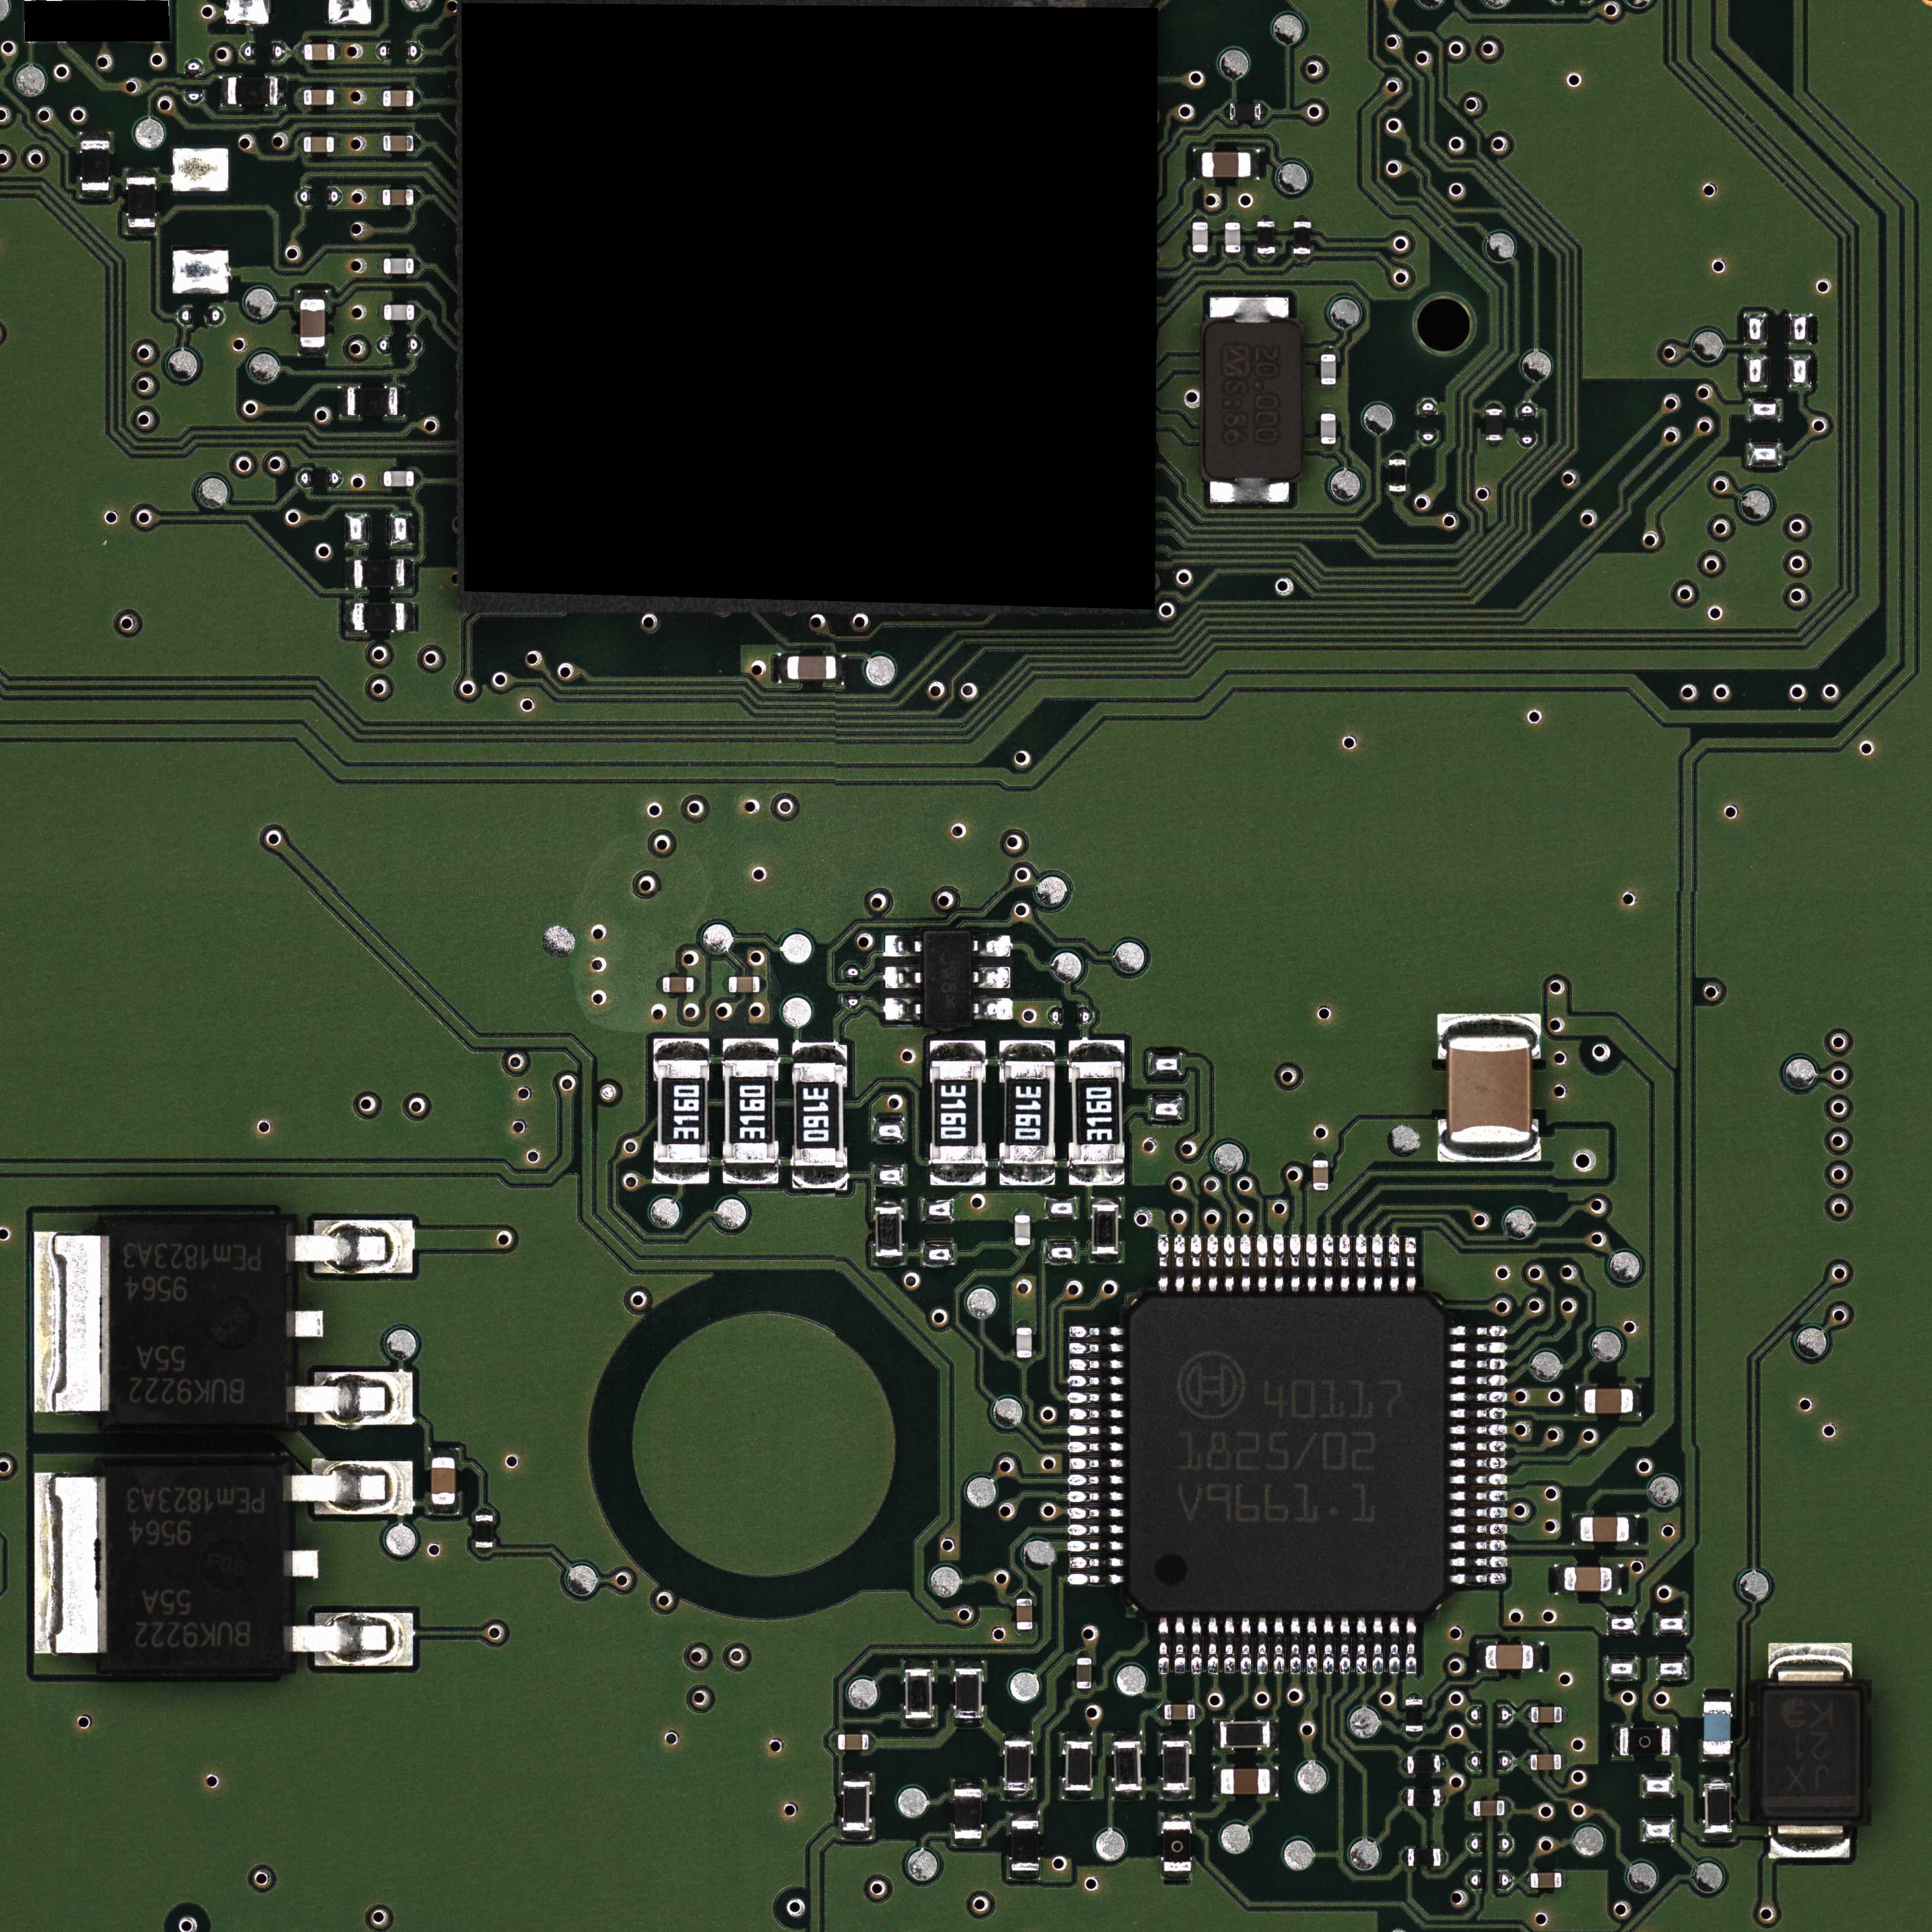Package: (1126, 1296, 1446, 1616), (106, 1466, 284, 1671), (110, 1224, 288, 1424), (1203, 324, 1302, 476), (1761, 1688, 1862, 1818), (1447, 1036, 1533, 1143), (793, 1064, 845, 1166), (1071, 1063, 1123, 1163), (931, 1062, 983, 1163), (724, 1062, 777, 1162), (657, 1061, 708, 1162), (1003, 1063, 1054, 1163), (922, 930, 972, 1025), (1703, 1702, 1731, 1754), (353, 603, 404, 631), (81, 141, 110, 191), (228, 77, 278, 105), (1619, 1728, 1670, 1756), (127, 177, 155, 227), (347, 387, 397, 416), (354, 559, 404, 587), (1163, 1822, 1191, 1871), (954, 1789, 982, 1838), (1011, 1821, 1039, 1870), (1220, 1722, 1270, 1748), (1202, 152, 1251, 178), (1005, 1741, 1031, 1790), (876, 1207, 901, 1256), (956, 1668, 981, 1718), (1221, 1769, 1270, 1794), (1163, 1741, 1189, 1790), (1066, 1741, 1092, 1790), (1705, 1784, 1731, 1833), (843, 1782, 869, 1831), (1580, 1517, 1629, 1542), (1115, 1741, 1140, 1790), (1093, 1205, 1117, 1254), (300, 299, 325, 347), (1584, 1388, 1633, 1413), (787, 656, 836, 680), (1486, 1644, 1533, 1670), (907, 1669, 931, 1718), (1564, 1567, 1612, 1592), (432, 1457, 456, 1505), (475, 1515, 494, 1548), (1293, 222, 1311, 255), (1407, 1848, 1441, 1867), (1405, 1699, 1423, 1732), (1257, 221, 1275, 254), (1407, 1755, 1440, 1773), (1407, 1788, 1440, 1806), (1388, 459, 1406, 492), (1485, 409, 1503, 440), (1229, 103, 1261, 121), (728, 976, 760, 993), (1473, 1800, 1505, 1816), (383, 135, 414, 152), (383, 189, 414, 205), (1530, 1754, 1561, 1770), (1164, 1704, 1195, 1720), (383, 90, 413, 107), (838, 1734, 869, 1750), (1192, 222, 1208, 253), (1531, 1706, 1562, 1723), (663, 977, 694, 993), (1016, 1598, 1032, 1630), (384, 304, 414, 320), (304, 44, 335, 60), (384, 258, 414, 274), (384, 471, 414, 487), (304, 90, 334, 105), (304, 137, 334, 152), (1225, 223, 1241, 253), (1313, 1160, 1329, 1190), (1321, 354, 1336, 385), (1321, 414, 1336, 444), (1531, 1873, 1561, 1888), (1076, 1658, 1092, 1689), (1014, 1215, 1030, 1245), (1016, 1327, 1032, 1357)
Solder: (34, 1235, 108, 1411), (35, 1474, 106, 1655), (285, 1460, 414, 1516), (284, 1613, 413, 1667), (289, 1371, 413, 1426), (289, 1221, 413, 1275), (1768, 1643, 1853, 1688), (1770, 1819, 1851, 1858), (1439, 1014, 1542, 1037), (1210, 477, 1290, 504), (1210, 296, 1288, 323), (1437, 1142, 1542, 1162), (792, 1167, 848, 1190), (999, 1165, 1056, 1186), (1068, 1165, 1125, 1185), (653, 1164, 710, 1184), (999, 1040, 1056, 1061), (723, 1039, 778, 1059), (723, 1164, 779, 1184), (654, 1039, 710, 1059), (1068, 1040, 1124, 1060), (930, 1165, 981, 1186), (792, 1043, 847, 1062), (289, 1309, 324, 1339), (929, 1041, 981, 1060), (884, 997, 922, 1021), (287, 1549, 319, 1578), (884, 966, 922, 989), (972, 998, 1013, 1020), (972, 966, 1011, 989), (972, 935, 1011, 957), (885, 935, 922, 957), (1449, 1357, 1507, 1371), (1449, 1489, 1507, 1502), (1449, 1506, 1507, 1519), (1449, 1539, 1507, 1552), (1449, 1555, 1507, 1569), (1449, 1341, 1507, 1354), (1449, 1374, 1507, 1387), (1449, 1473, 1507, 1486), (1449, 1523, 1507, 1536), (1449, 1456, 1507, 1469), (1449, 1391, 1507, 1403), (1449, 1424, 1507, 1437), (1449, 1572, 1507, 1585), (1449, 1440, 1507, 1453), (1355, 1234, 1367, 1292), (1388, 1235, 1401, 1292), (1449, 1407, 1507, 1420), (1449, 1325, 1507, 1338), (1289, 1233, 1301, 1293), (1305, 1234, 1317, 1293), (1190, 1234, 1202, 1293), (1256, 1234, 1268, 1292), (1372, 1234, 1384, 1292), (1068, 1556, 1124, 1569), (1223, 1234, 1235, 1292), (1240, 1234, 1252, 1292), (1339, 1234, 1351, 1292), (1066, 1491, 1124, 1502), (1066, 1524, 1124, 1536), (1322, 1235, 1334, 1292), (1067, 1573, 1124, 1585), (1339, 1617, 1351, 1675), (1067, 1375, 1124, 1387), (1273, 1233, 1284, 1293), (1067, 1540, 1124, 1552), (1067, 1392, 1124, 1403), (1068, 1359, 1124, 1371), (1174, 1234, 1185, 1293), (1207, 1234, 1218, 1292), (1066, 1507, 1124, 1519), (1256, 1617, 1268, 1675), (1240, 1617, 1252, 1675), (1273, 1617, 1285, 1675), (1290, 1617, 1301, 1675), (1306, 1617, 1318, 1675), (1405, 1236, 1417, 1292), (1067, 1474, 1124, 1486), (1191, 1617, 1202, 1675), (1174, 1617, 1186, 1675), (1224, 1617, 1235, 1675), (1323, 1617, 1334, 1675), (1069, 1326, 1124, 1338), (1069, 1342, 1124, 1354), (1067, 1442, 1124, 1453), (1389, 1617, 1400, 1674), (1372, 1617, 1384, 1674), (1356, 1617, 1367, 1674), (1067, 1425, 1124, 1436), (1068, 1458, 1124, 1469), (1068, 1408, 1124, 1420), (1158, 1234, 1169, 1293), (1207, 1617, 1218, 1675), (1159, 1617, 1169, 1675), (1405, 1617, 1416, 1674), (1613, 1564, 1624, 1594), (1553, 1564, 1564, 1595), (1629, 1514, 1640, 1545), (1475, 1641, 1486, 1672), (1534, 1642, 1545, 1672), (427, 1505, 460, 1515), (404, 602, 415, 632), (1633, 1385, 1643, 1417), (776, 653, 786, 683), (1251, 149, 1261, 179), (1160, 1811, 1192, 1821), (841, 1771, 872, 1781), (903, 1719, 936, 1729), (1159, 1791, 1192, 1800), (1002, 1791, 1035, 1800), (1061, 1791, 1094, 1801), (79, 131, 111, 140), (1062, 1732, 1093, 1741), (1111, 1791, 1143, 1801), (953, 1779, 984, 1788), (297, 289, 329, 298), (836, 653, 845, 684), (1111, 1732, 1143, 1741), (1160, 1732, 1192, 1741), (1575, 1385, 1584, 1416), (297, 348, 328, 357), (344, 602, 354, 632), (1003, 1731, 1033, 1740), (954, 1719, 984, 1729), (125, 167, 157, 176), (841, 1832, 873, 1840), (429, 1447, 459, 1456), (1192, 148, 1202, 179), (873, 1257, 905, 1266), (1702, 1834, 1734, 1842), (345, 558, 354, 589), (904, 1659, 935, 1668), (953, 1659, 984, 1668), (1702, 1774, 1733, 1783), (80, 191, 110, 199), (1009, 1811, 1040, 1820), (1571, 1514, 1580, 1545), (1009, 1871, 1041, 1880), (1161, 1872, 1192, 1881), (1703, 1692, 1733, 1701), (398, 385, 406, 417), (952, 1839, 984, 1847), (125, 228, 156, 236), (405, 559, 413, 590), (1701, 1755, 1734, 1763), (278, 76, 287, 106), (338, 386, 347, 416), (219, 76, 228, 106), (1090, 1255, 1120, 1263), (1670, 1726, 1679, 1756), (1270, 1765, 1278, 1797), (874, 1198, 904, 1206), (1270, 1719, 1278, 1750), (1612, 1726, 1620, 1757), (1091, 1196, 1121, 1204), (1212, 1719, 1220, 1750), (1212, 1765, 1220, 1796), (474, 1548, 494, 1557), (475, 1506, 494, 1514), (1256, 254, 1275, 261), (1016, 1590, 1032, 1598), (1191, 215, 1208, 222), (1388, 451, 1406, 459), (1486, 401, 1502, 409), (1261, 103, 1268, 121), (1224, 215, 1241, 223), (1190, 252, 1209, 259), (1441, 1849, 1448, 1866), (1320, 406, 1336, 414), (1320, 347, 1336, 354), (1401, 1848, 1407, 1865), (1405, 1732, 1423, 1738), (1400, 1789, 1407, 1805), (831, 1734, 838, 1750), (1320, 443, 1337, 450), (1158, 1703, 1164, 1721), (1486, 440, 1503, 447), (1258, 214, 1274, 221), (1440, 1755, 1447, 1771), (1504, 1799, 1511, 1815), (1223, 252, 1242, 258), (1294, 255, 1310, 261), (1294, 215, 1310, 221), (1015, 1321, 1032, 1327), (760, 976, 766, 992), (656, 976, 663, 993), (869, 1734, 875, 1750), (1320, 385, 1337, 391), (1312, 1154, 1329, 1160), (1401, 1757, 1407, 1773), (1389, 491, 1406, 497), (1405, 1693, 1423, 1699), (1196, 1703, 1202, 1721), (1223, 104, 1229, 120), (1076, 1651, 1092, 1658), (1441, 1790, 1447, 1806), (1015, 1629, 1034, 1635), (1015, 1246, 1030, 1252), (724, 976, 729, 992), (414, 91, 420, 105), (1561, 1707, 1568, 1722), (1562, 1873, 1568, 1887), (414, 471, 420, 486), (1015, 1209, 1030, 1215), (1561, 1755, 1567, 1769), (693, 976, 699, 993), (1524, 1873, 1530, 1887), (1016, 1358, 1032, 1363), (1468, 1800, 1474, 1816), (334, 91, 340, 104), (1525, 1707, 1531, 1721), (299, 90, 304, 104), (1312, 1190, 1329, 1195), (414, 137, 420, 150), (1525, 1755, 1531, 1769), (378, 91, 383, 105), (1076, 1689, 1092, 1693), (335, 45, 339, 59), (414, 260, 420, 272), (378, 473, 384, 485), (378, 137, 384, 150), (298, 139, 304, 150), (334, 138, 339, 150), (413, 191, 419, 203), (299, 46, 305, 57), (379, 260, 384, 272), (379, 306, 384, 318), (414, 307, 419, 318), (378, 192, 383, 203)
